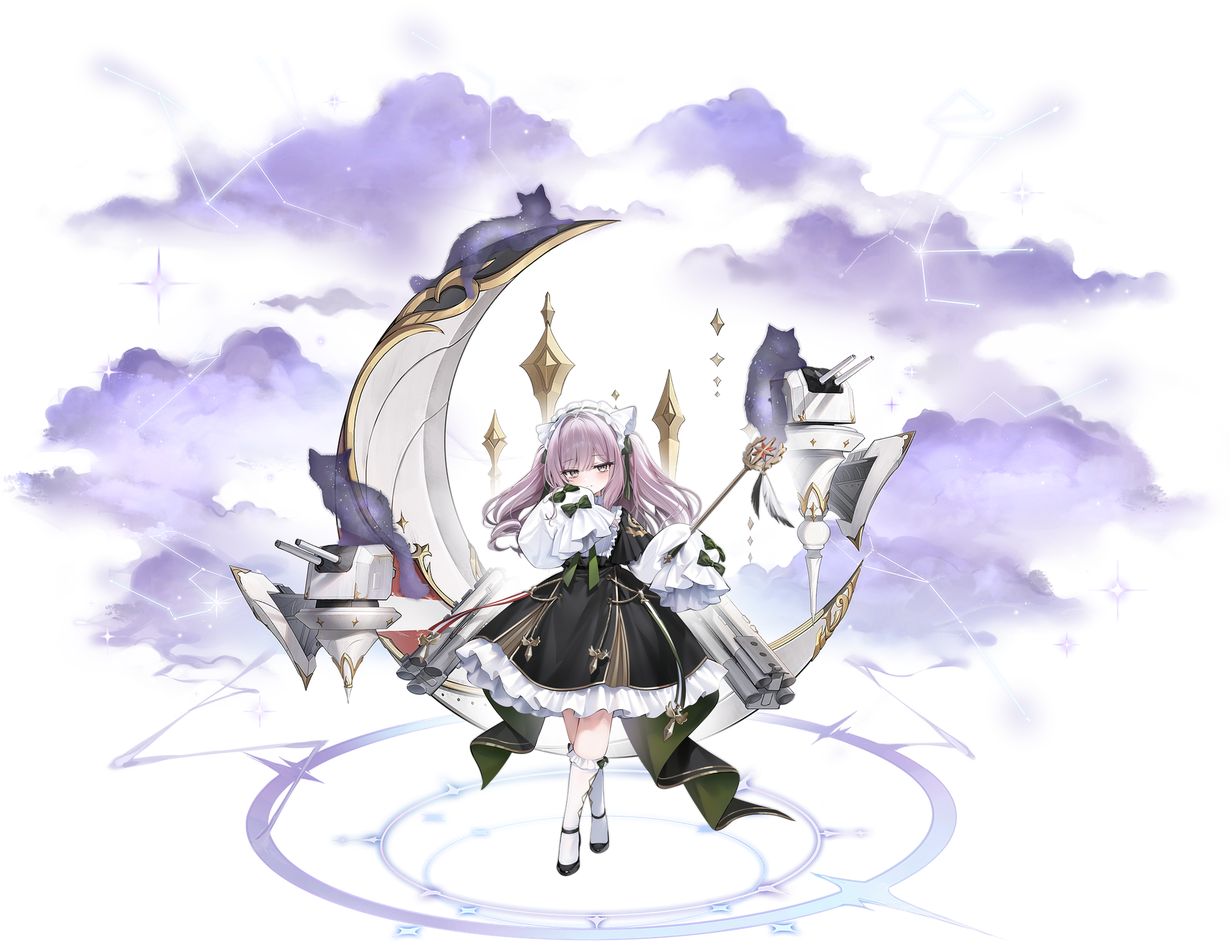person: (382, 360, 854, 917)
